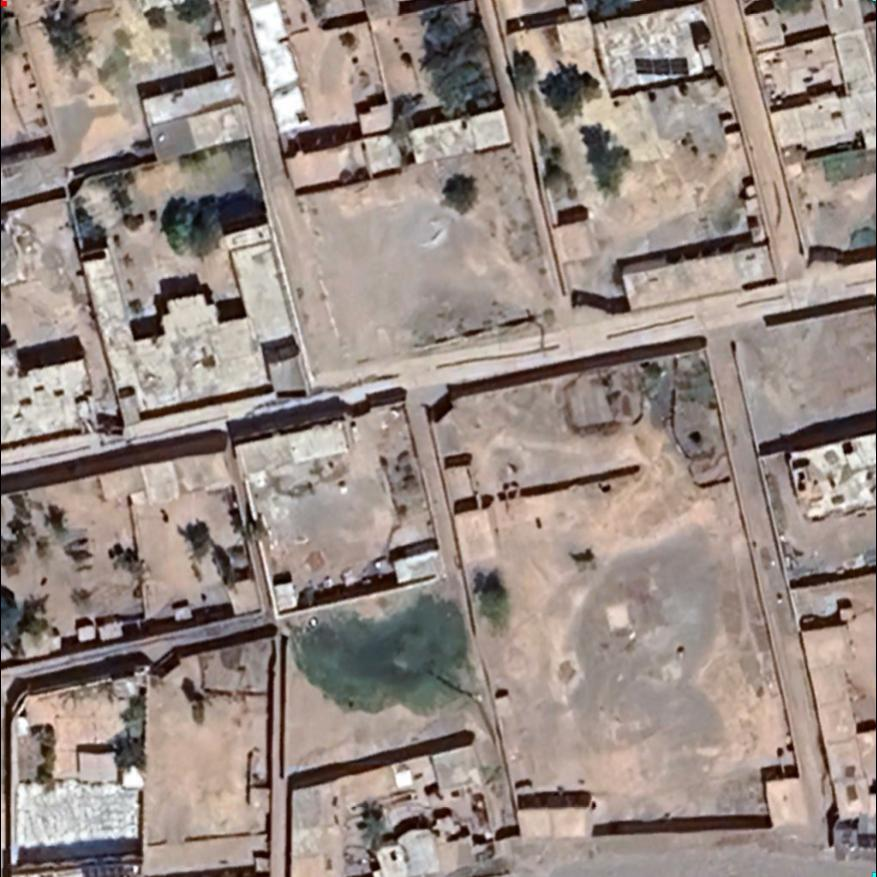Solarpanel: (629, 57, 699, 77)
